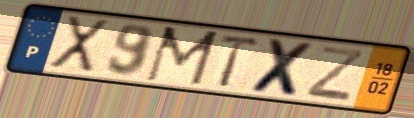9: (104, 22, 154, 79)
M: (141, 24, 222, 88)
T: (216, 33, 265, 89)
X: (247, 36, 319, 101), (45, 14, 112, 77)
Z: (302, 44, 367, 104)
